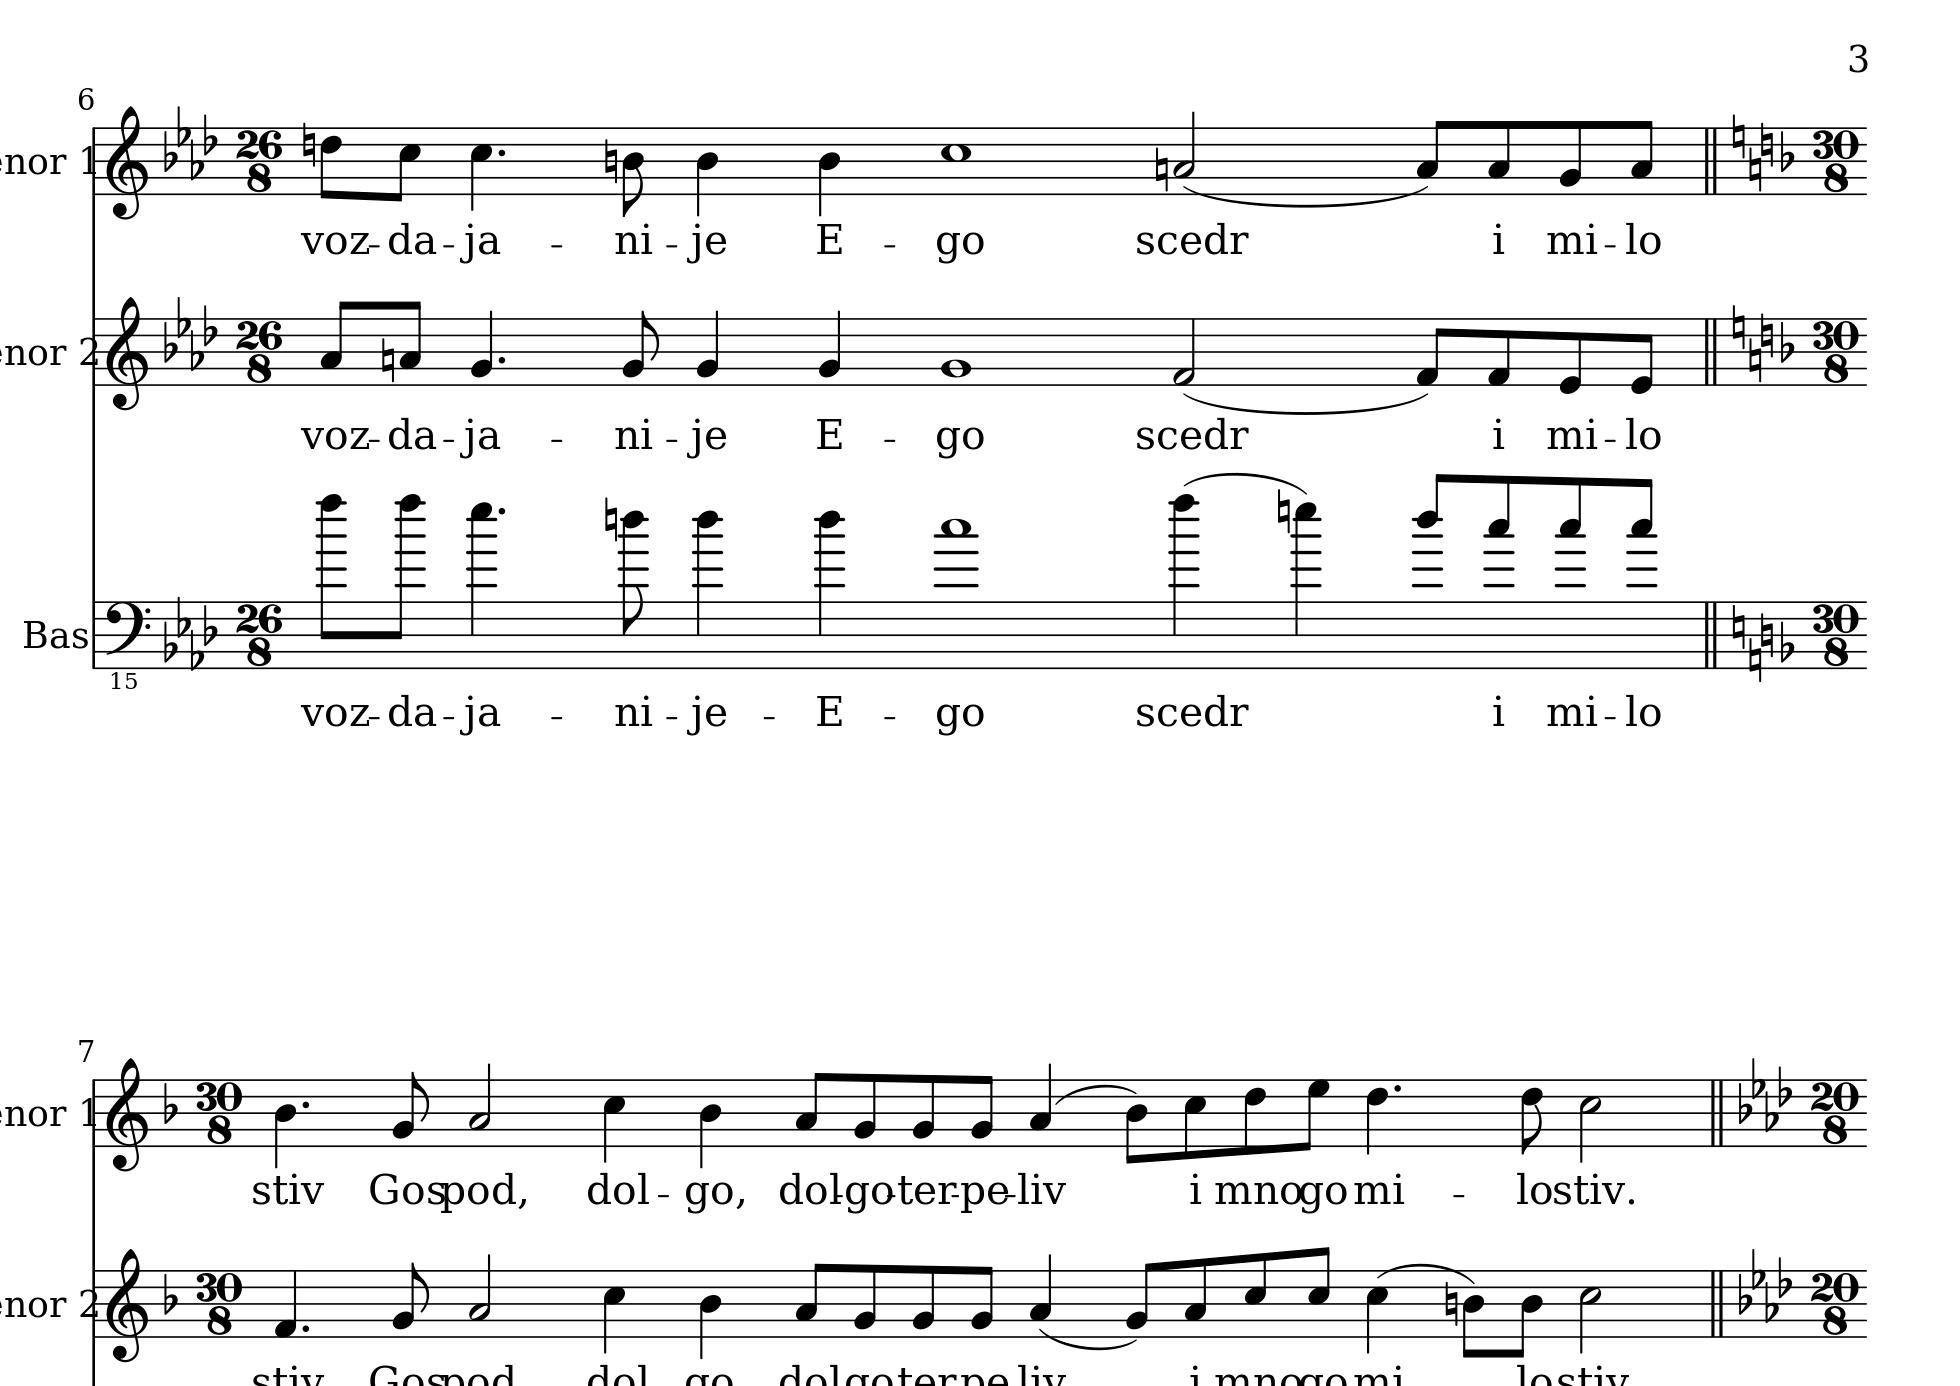0: (1833, 600, 1863, 633), (1833, 316, 1861, 349), (1833, 1269, 1861, 1302), (1833, 1077, 1860, 1111), (1833, 127, 1861, 159), (217, 1077, 243, 1111), (217, 1269, 243, 1302)
1_17: (931, 517, 982, 669)
1_2: (939, 313, 973, 388)
1_5: (940, 124, 972, 196)
2: (234, 126, 261, 160), (1809, 1267, 1834, 1303), (234, 316, 259, 351), (234, 600, 259, 634), (1809, 1077, 1834, 1111)
2_1: (1171, 316, 1198, 388)
2_3: (466, 1252, 493, 1336), (1173, 108, 1198, 195), (466, 1062, 492, 1147)
2_5: (1578, 1077, 1603, 1162), (1578, 1269, 1603, 1353)
3: (1810, 127, 1836, 159), (1846, 40, 1870, 73), (193, 1269, 217, 1302), (195, 1078, 217, 1111), (1812, 318, 1834, 349), (1812, 601, 1834, 633)
4_1: (271, 1267, 298, 1339)
4_18: (691, 508, 723, 670), (814, 508, 844, 670)
4_19: (1290, 499, 1323, 670), (466, 502, 498, 670)
4_2: (468, 307, 495, 387), (694, 307, 721, 387), (817, 307, 843, 387)
4_20: (1167, 492, 1203, 670)
4_3: (1027, 1062, 1053, 1147), (1029, 1252, 1053, 1338)
4_4: (694, 124, 718, 217), (817, 124, 841, 217), (697, 1077, 721, 1168), (697, 1267, 721, 1357), (273, 1078, 295, 1170)
4_5: (468, 124, 493, 213), (601, 1267, 627, 1354), (1365, 1267, 1390, 1354), (601, 1077, 625, 1165)
4_6: (1365, 1077, 1389, 1155)
6: (259, 600, 285, 633), (259, 127, 285, 159), (259, 318, 283, 349), (76, 84, 96, 112)
7: (76, 1035, 96, 1063)
8: (244, 160, 273, 195), (1822, 349, 1851, 384), (1822, 633, 1851, 667), (1821, 1111, 1849, 1146), (1821, 1302, 1849, 1336), (1822, 160, 1851, 193), (246, 633, 273, 667), (205, 1302, 232, 1336), (246, 349, 271, 385), (205, 1111, 232, 1144)
8_0: (1557, 316, 1584, 396), (1629, 316, 1656, 396)
8_1: (1416, 316, 1449, 388), (1485, 316, 1512, 388)
8_17: (1626, 474, 1659, 673), (1554, 472, 1587, 670), (1483, 471, 1515, 670)
8_18: (1410, 469, 1446, 673), (618, 510, 649, 670)
8_2: (621, 307, 658, 385), (391, 1069, 427, 1147), (391, 1261, 427, 1338), (1125, 1260, 1156, 1338), (1557, 118, 1584, 196), (852, 1261, 877, 1339), (852, 1071, 877, 1147), (910, 1072, 936, 1147), (969, 1072, 994, 1147), (910, 1263, 936, 1338), (969, 1264, 994, 1339)
8_20: (315, 493, 349, 670), (391, 493, 426, 670)
8_3: (318, 298, 352, 387), (793, 1260, 828, 1339), (1416, 118, 1449, 196), (793, 1069, 826, 1147), (397, 298, 424, 388), (1629, 117, 1656, 196), (1183, 1255, 1209, 1339), (1486, 118, 1512, 196)
8_4: (1509, 1267, 1545, 1359), (619, 124, 645, 217), (1461, 1269, 1486, 1359), (1123, 1077, 1149, 1165)
8_5: (388, 126, 421, 204), (1306, 1243, 1332, 1339), (1243, 1249, 1269, 1339), (1182, 1075, 1207, 1161)
8_6: (1242, 1075, 1267, 1156), (1519, 1077, 1545, 1156), (318, 124, 343, 202)
8_7: (1297, 1077, 1330, 1152)
A_F: (162, 102, 219, 181), (162, 292, 219, 370), (1735, 1246, 1794, 1321), (1738, 1054, 1794, 1132), (162, 595, 217, 670)
Bass: (21, 615, 90, 652)
Cclef: (235, 600, 283, 670), (196, 1269, 244, 1339), (196, 1078, 241, 1149)
DLower_Fclef: (97, 598, 153, 699)
Double_barline: (1707, 1078, 1728, 1146), (1707, 1269, 1728, 1336), (1701, 126, 1720, 195), (1701, 316, 1720, 385), (1701, 600, 1720, 669)
Flat: (160, 1078, 178, 1126), (160, 1270, 178, 1317), (1779, 127, 1795, 174), (1779, 319, 1795, 364), (1777, 619, 1794, 664)
Gclef: (103, 1054, 148, 1173), (105, 292, 148, 414), (103, 103, 148, 220), (105, 1246, 148, 1363)
Natural: (1273, 486, 1293, 538), (601, 493, 619, 544), (601, 135, 619, 184), (379, 336, 396, 385), (300, 120, 316, 168), (1153, 145, 1170, 193), (1759, 610, 1776, 658), (1443, 1279, 1459, 1327), (1731, 111, 1746, 160), (1731, 601, 1746, 651), (1746, 637, 1762, 682), (1759, 120, 1774, 168), (1731, 303, 1746, 351), (1747, 148, 1762, 193), (1747, 339, 1762, 384), (1761, 310, 1774, 358)
Single_barline: (85, 316, 103, 385), (87, 1267, 103, 1338), (87, 124, 102, 196), (88, 1078, 103, 1146), (88, 600, 100, 669)
Slur: (1185, 391, 1423, 418), (1182, 183, 1432, 208), (1183, 471, 1311, 492), (1039, 1327, 1137, 1350), (1375, 1263, 1476, 1284), (1056, 1083, 1137, 1104)
TimeSig: (237, 316, 283, 385), (1813, 316, 1860, 385), (1813, 1078, 1860, 1147), (1813, 1267, 1860, 1336), (1815, 127, 1860, 196), (238, 126, 283, 193), (1815, 600, 1860, 667)
dot: (493, 502, 508, 517), (493, 145, 508, 159), (298, 1096, 312, 1110), (495, 352, 507, 366), (1392, 1081, 1404, 1093), (300, 1321, 310, 1333)
